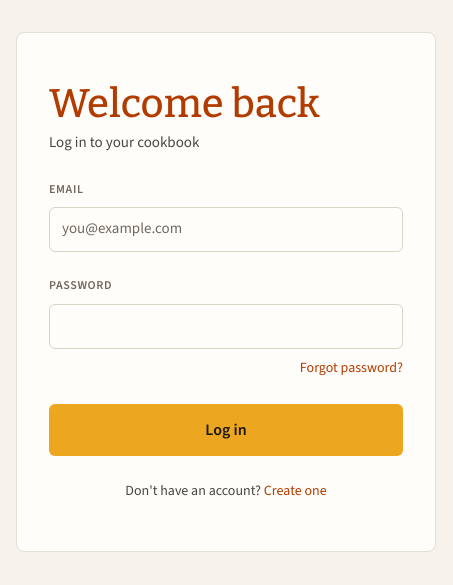
Test: Login page › an edited email left by a press on the submit button shows no message until the browser stops the submit
Type "jane@" into the field labelled "Email" at coordinates (226, 230), box x1=49 y1=207 x2=403 y2=252
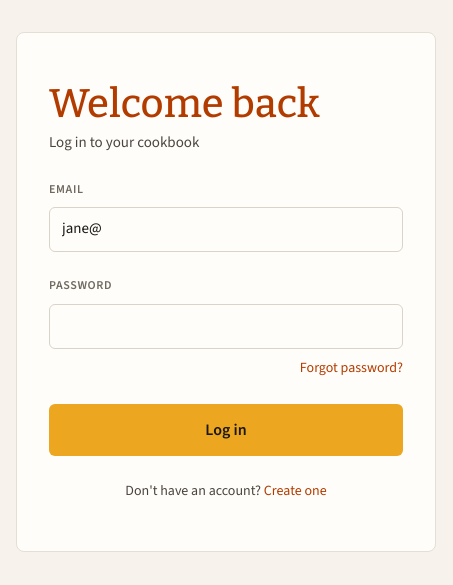
Press the mouse on the button "Log in" at coordinates (226, 430), box x1=49 y1=404 x2=403 y2=456
Leave the field labelled "Email", box x1=49 y1=207 x2=403 y2=252
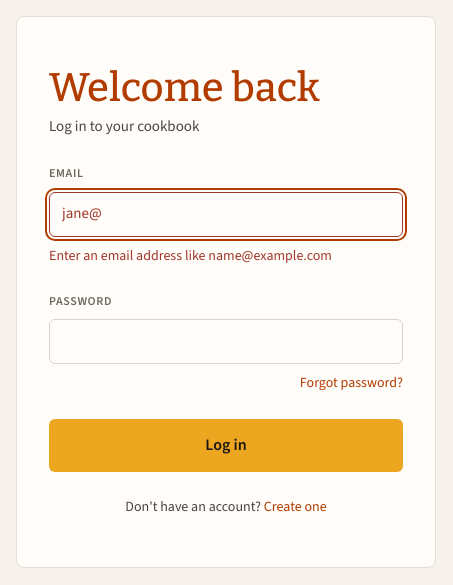
Result: the text "Enter an email address like name@example.com" is shown at x1=49 y1=246 x2=332 y2=266
